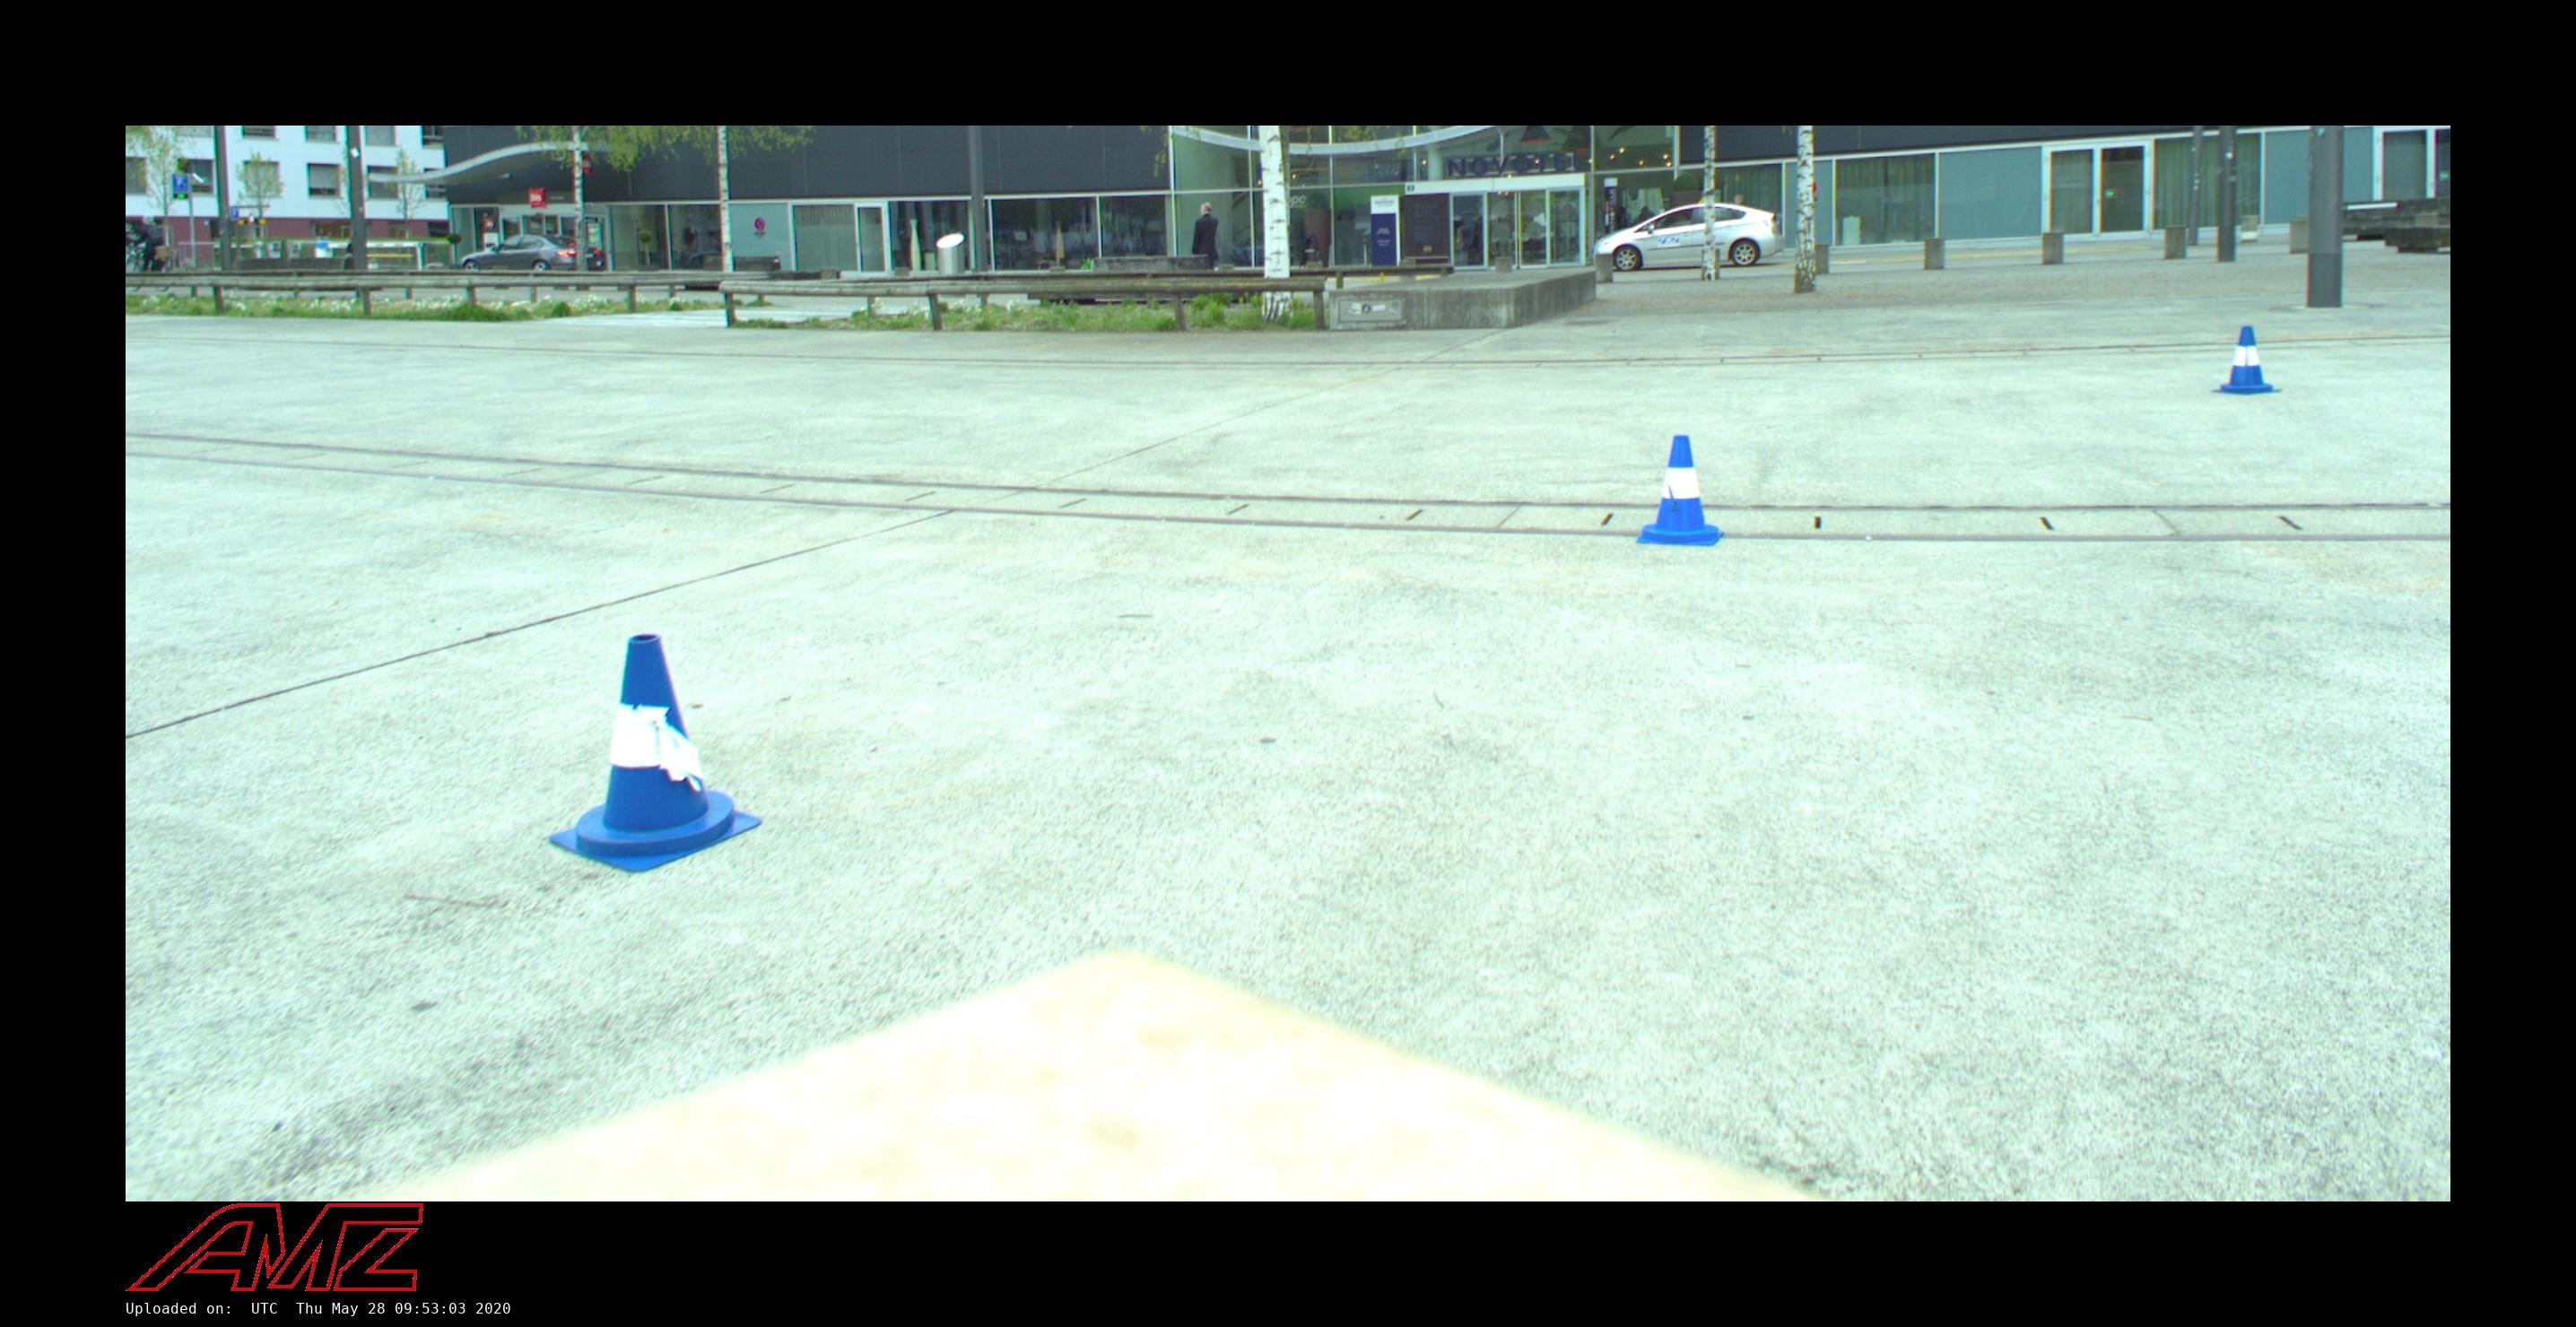blue_cone: (545, 631, 757, 870), (1632, 433, 1730, 547), (2212, 323, 2283, 396)
